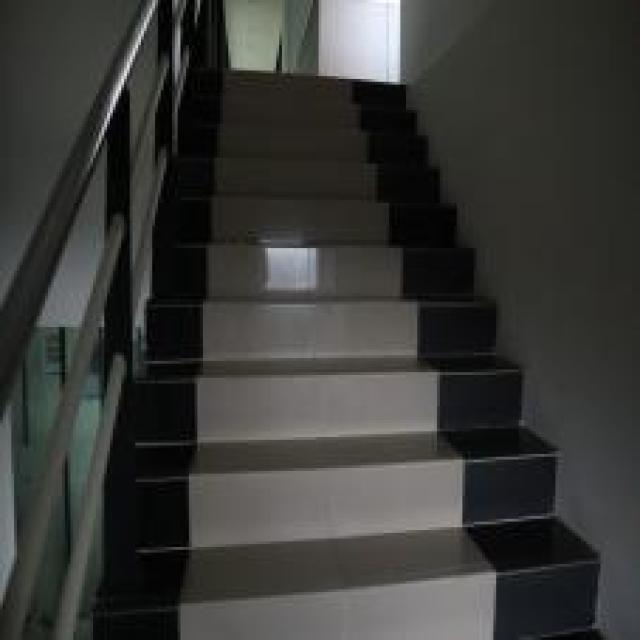upstair: (151, 303, 529, 616)
